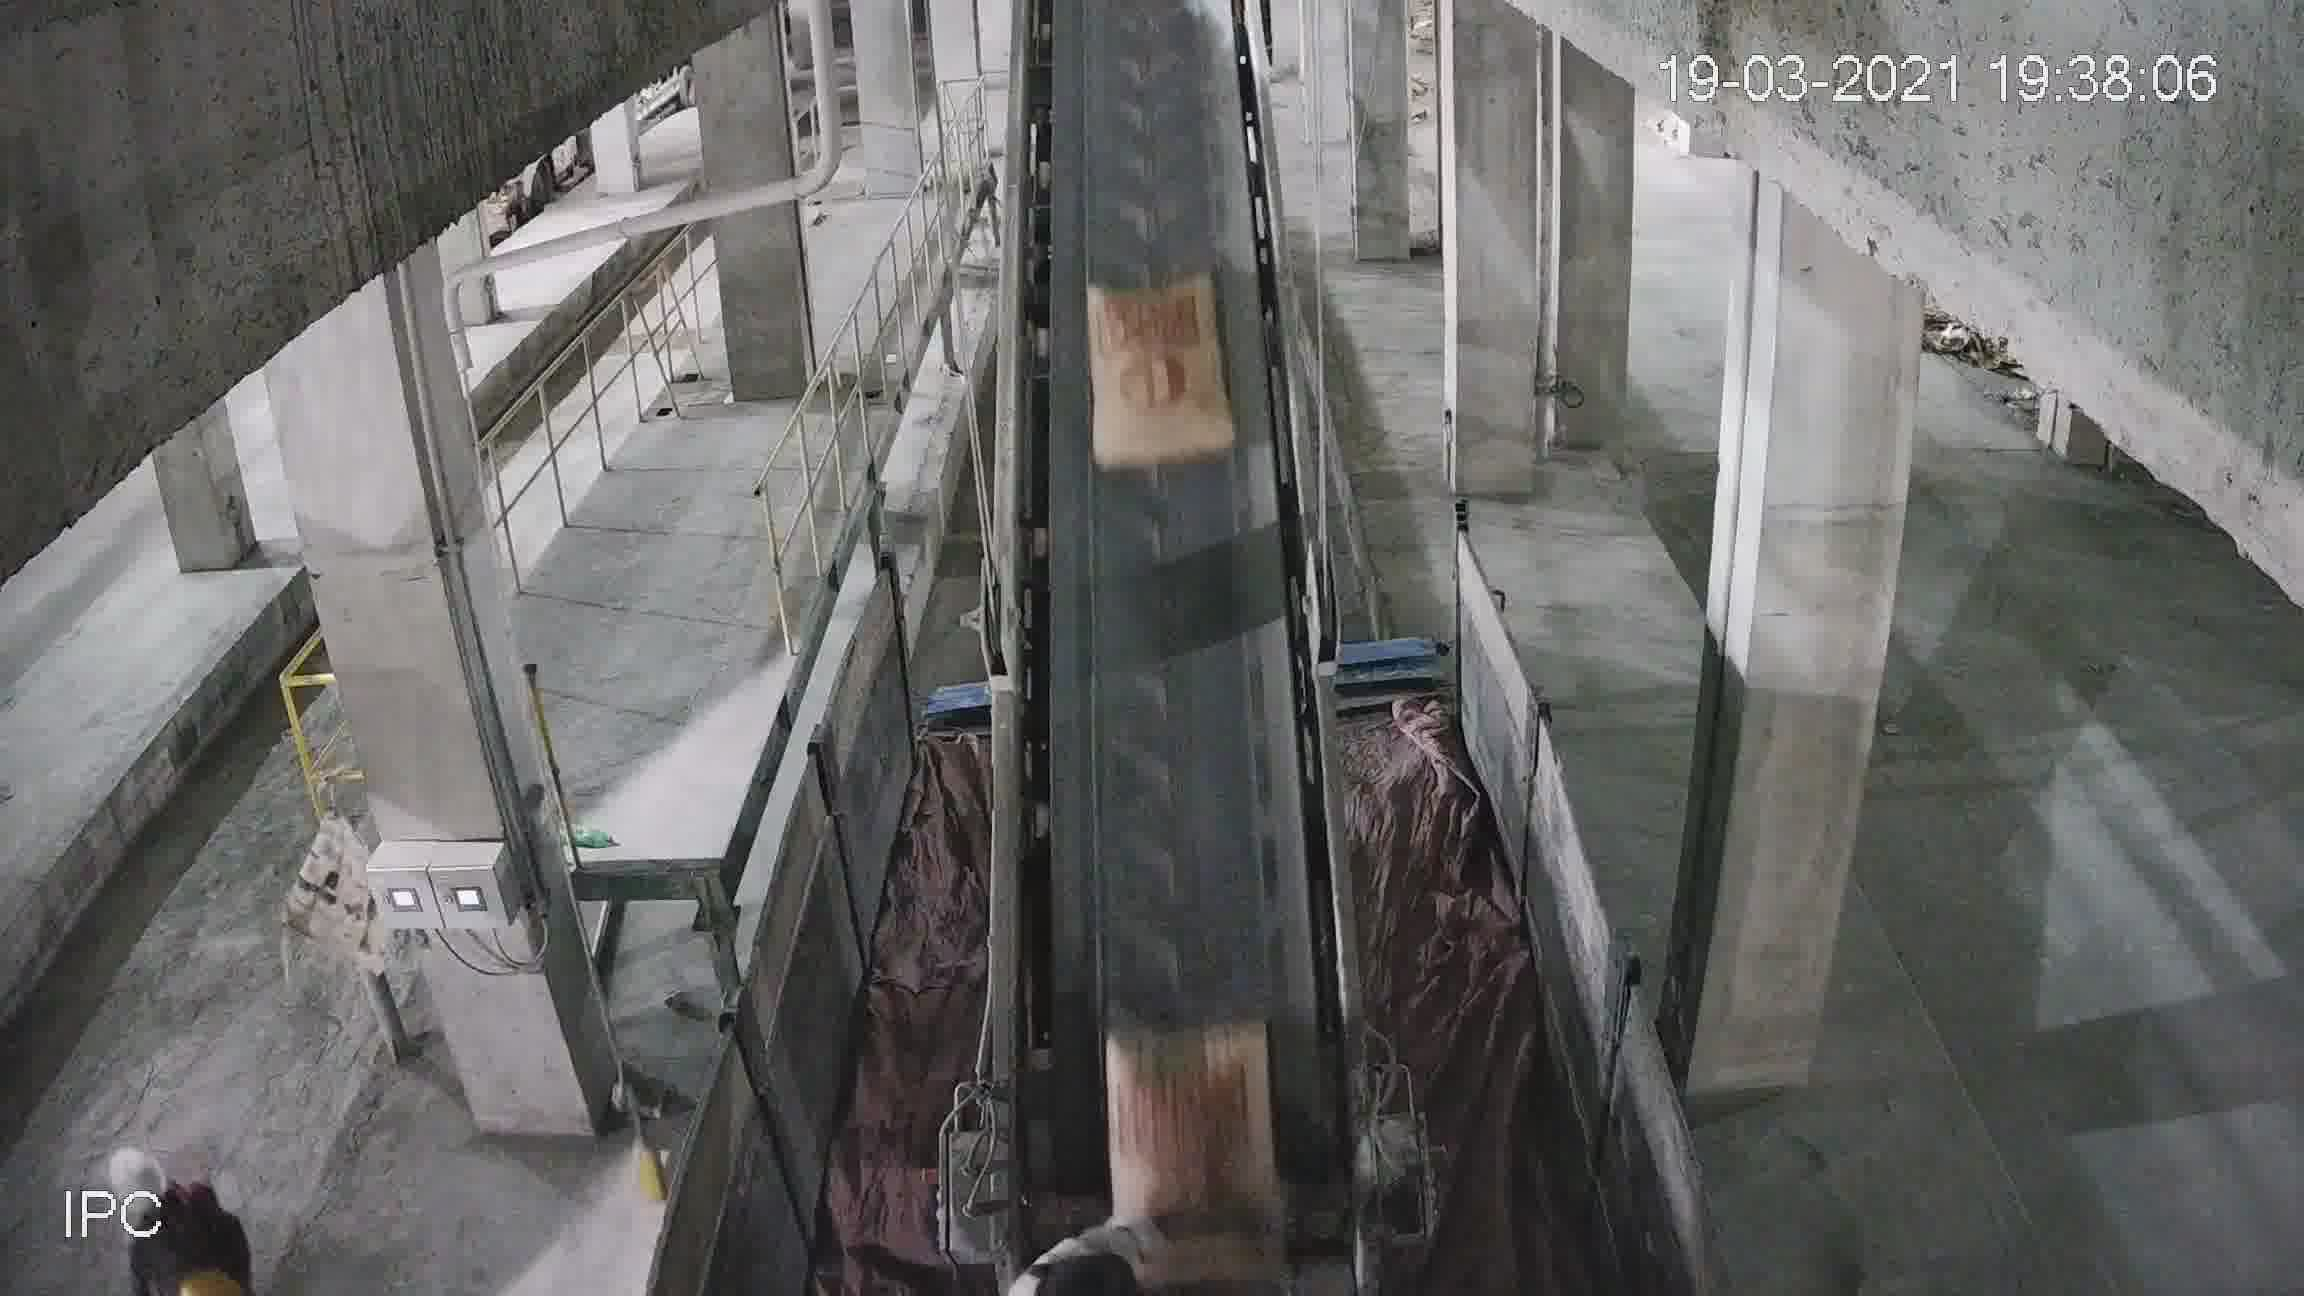bag: (1086, 269, 1225, 460), (1108, 1032, 1269, 1185)
belt: (991, 33, 1329, 1086)
